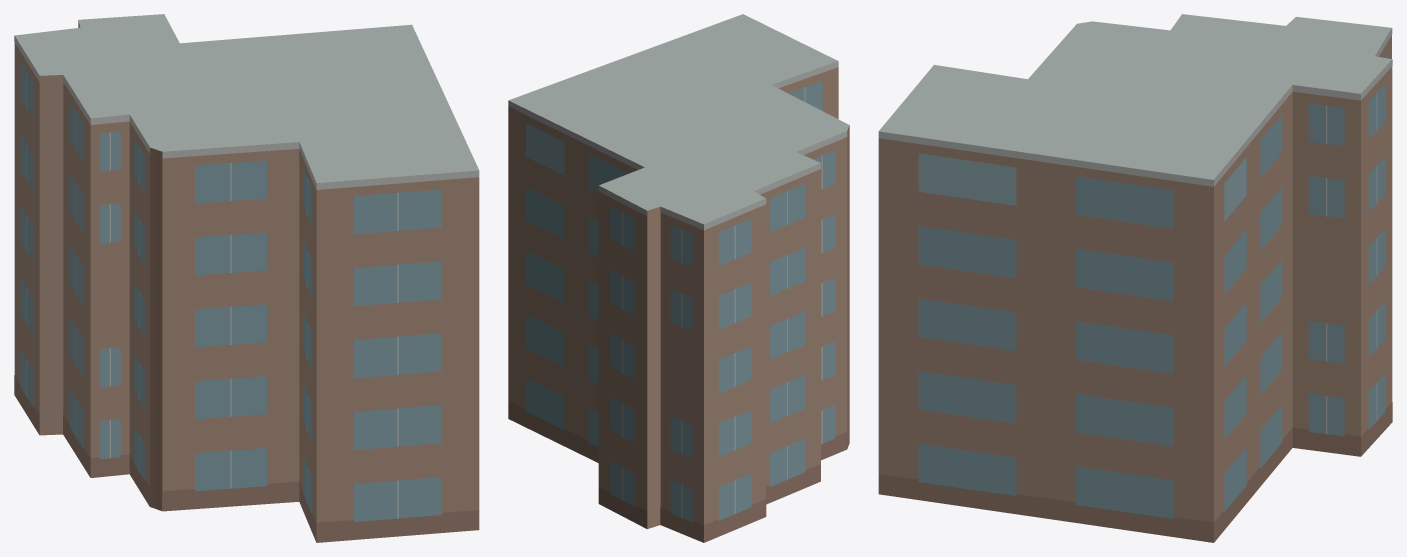
The model's file is survey-upis-32888699.glb.
The picture shows the model from 3 angles, left to right: view 1: azimuth 30°, elevation 25°; view 2: azimuth 150°, elevation 25°; view 3: azimuth 270°, elevation 25°; orthographic projection. The views are drawn at different scales.
Visible parts, largest first — view 1: survey-upis-32888699.tmp; view 2: survey-upis-32888699.tmp; view 3: survey-upis-32888699.tmp.
Boxes of the visible parts, x1=… form: survey-upis-32888699.tmp: x1=14, y1=14, x2=479, y2=542; survey-upis-32888699.tmp: x1=508, y1=14, x2=849, y2=542; survey-upis-32888699.tmp: x1=878, y1=14, x2=1392, y2=542.
Size of the model in its own units: 12.87 by 13.1 by 16.83.
